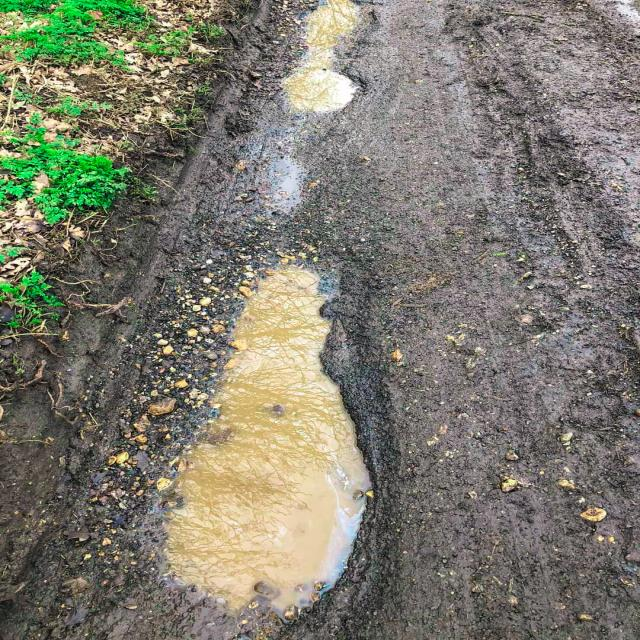potholes: (129, 259, 387, 620), (255, 1, 390, 116), (236, 147, 320, 220)
